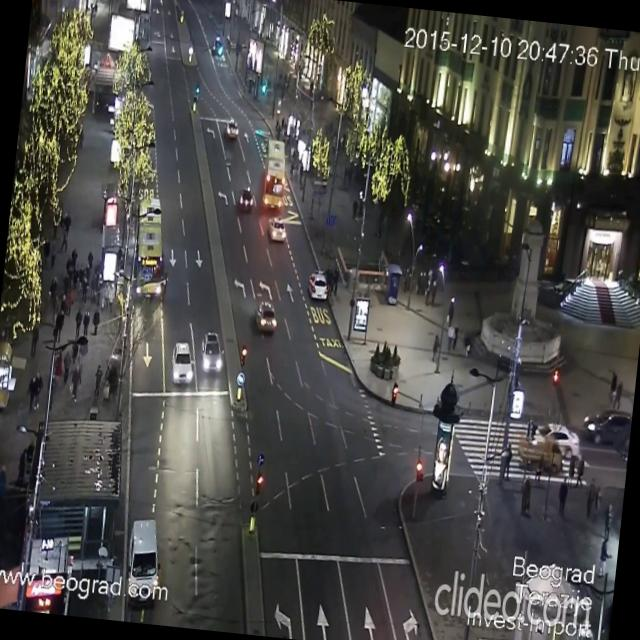bus: (128, 196, 172, 299), (260, 138, 288, 208)
car: (122, 516, 164, 606), (530, 420, 584, 454), (584, 408, 632, 444), (168, 339, 196, 386), (198, 330, 225, 374), (252, 299, 278, 334), (306, 270, 330, 300), (266, 215, 288, 242), (240, 186, 253, 212), (226, 118, 238, 136)
truck: (514, 434, 564, 472)
